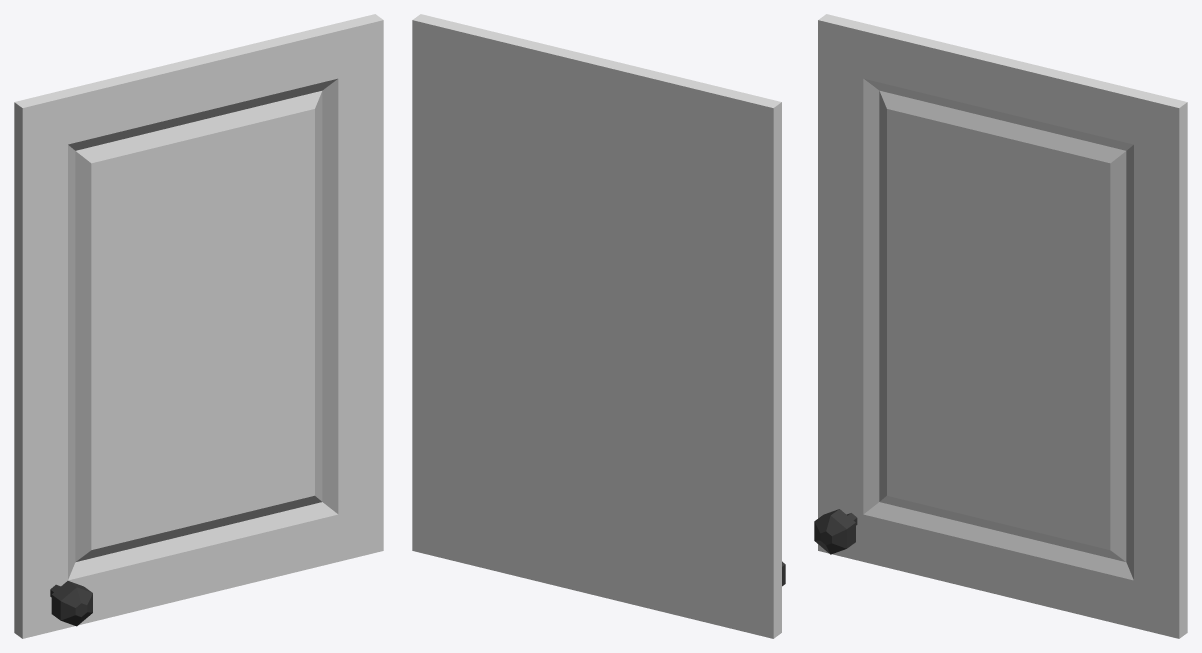
The model's file is Wardrobe7_C1_08.fbx.
The picture shows the model from 3 angles, left to right: view 1: azimuth 30°, elevation 25°; view 2: azimuth 150°, elevation 25°; view 3: azimuth 330°, elevation 25°; orthographic projection.
Parts seen in each view (by area): view 1: Wardrobe7_C1_08; view 2: Wardrobe7_C1_08; view 3: Wardrobe7_C1_08.
Boxes of the visible parts, <box> form: Wardrobe7_C1_08: <box>14,14,383,638</box>; Wardrobe7_C1_08: <box>412,14,785,638</box>; Wardrobe7_C1_08: <box>814,14,1187,638</box>.
Bounding box in the file's own units: 50 × 70.23 × 8.1.
